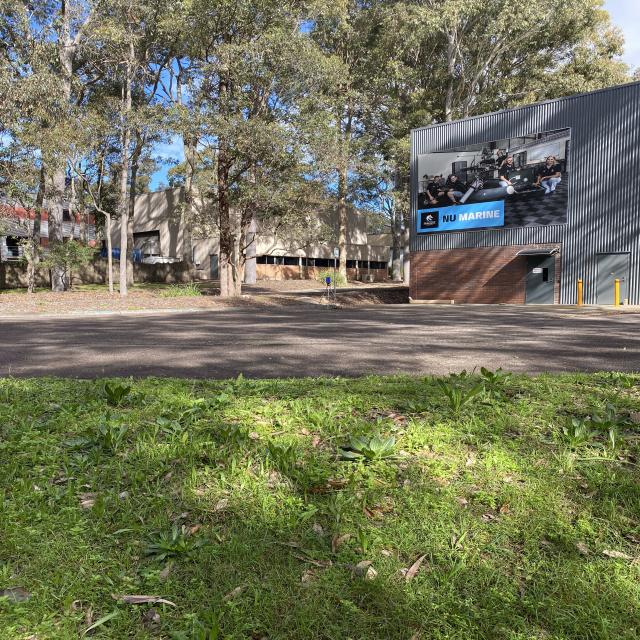matrix: (325, 276, 332, 284)
